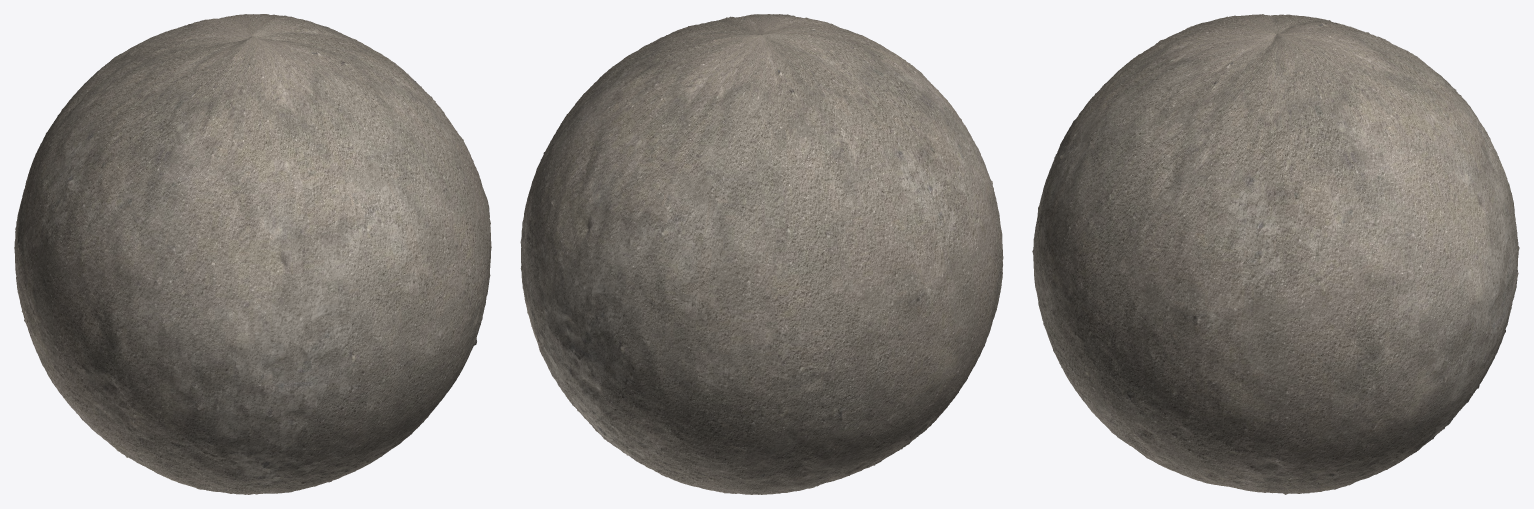
Rendered from ground_grey_1k.gltf.
The picture shows the model from 3 angles, left to right: view 1: azimuth 30°, elevation 25°; view 2: azimuth 150°, elevation 25°; view 3: azimuth 270°, elevation 25°; orthographic projection.
Parts seen in each view (by area): view 1: sphere_gltf; view 2: sphere_gltf; view 3: sphere_gltf.
Boxes of the visible parts, x1,y1,x2,y2 form: sphere_gltf: (14,14,491,494); sphere_gltf: (520,14,1003,494); sphere_gltf: (1032,14,1519,494).
Bounding box in the file's own units: 0.9973 × 1.01 × 1.01.
1 material, 1 textured.
